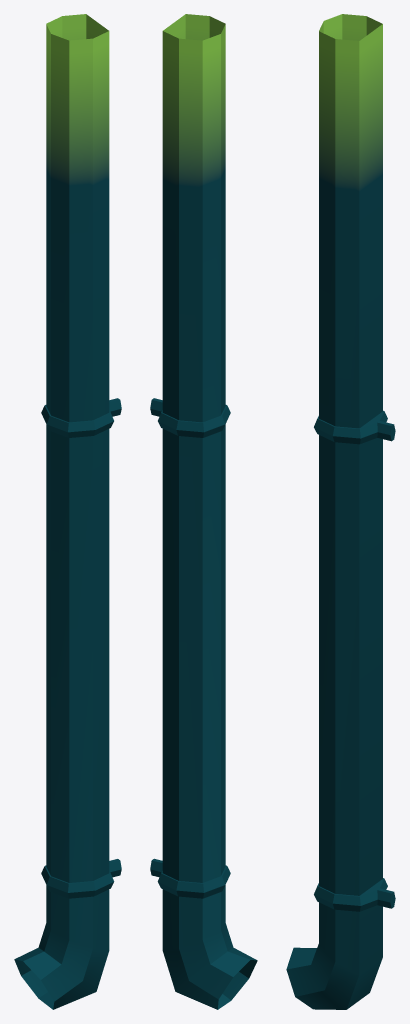
Rendered from Tube_Blue.glb.
3 views of the same model, side by side, from view 1: azimuth 30°, elevation 25°; view 2: azimuth 150°, elevation 25°; view 3: azimuth 330°, elevation 25° (orthographic).
Visible parts, largest first — view 1: GreenTube; view 2: GreenTube; view 3: GreenTube.
Part boxes in pixels (<box>): GreenTube: <box>14,14,121,1009</box>; GreenTube: <box>150,14,257,1009</box>; GreenTube: <box>286,14,395,1009</box>.
Size of what is drawn, in the model's own units: 0.5269 by 5.04 by 0.3357.
Materials: 1 (1 with a texture image).
